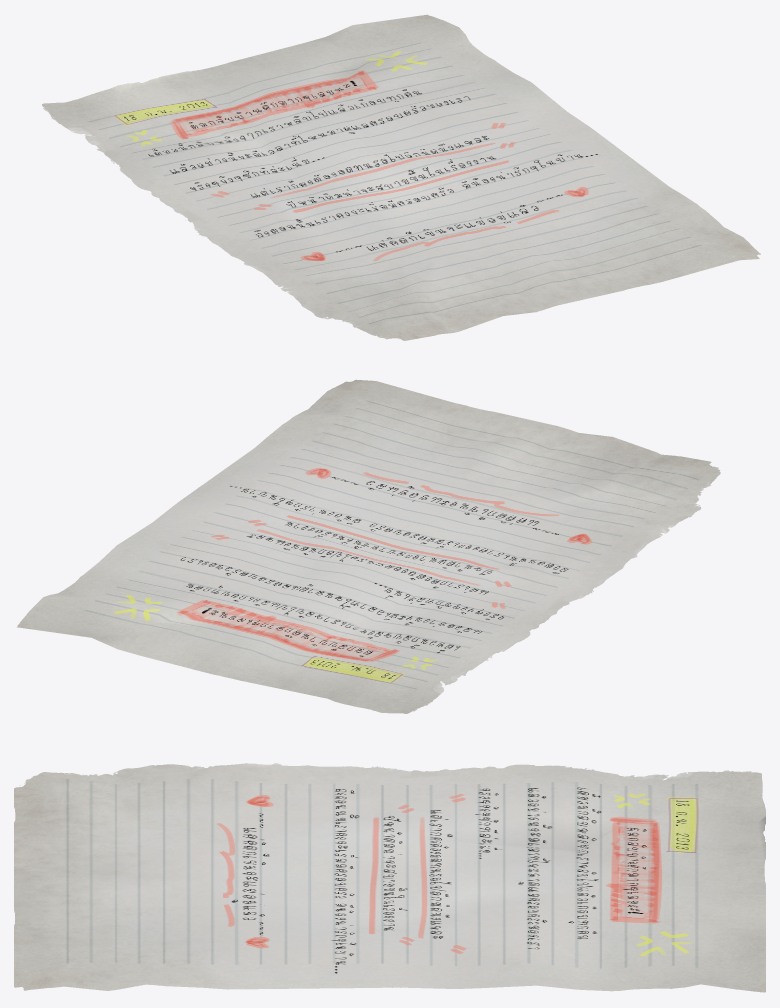
Rendered from diary05.FBX.
3 renders of one model, top to bottom at view 1: azimuth 30°, elevation 25°; view 2: azimuth 150°, elevation 25°; view 3: azimuth 270°, elevation 25°, orthographic. The views are drawn at different scales.
Visible parts, largest first — view 1: SM_Diary2; view 2: SM_Diary2; view 3: SM_Diary2.
Part boxes in pixels (left/top/right/bottom): SM_Diary2: left=42, top=14, right=760, bottom=340; SM_Diary2: left=16, top=379, right=720, bottom=713; SM_Diary2: left=14, top=763, right=765, bottom=992.
Bounding box in the file's own units: 18.8 × 0.5262 × 26.3.
Materials: 1 (1 with a texture image).
